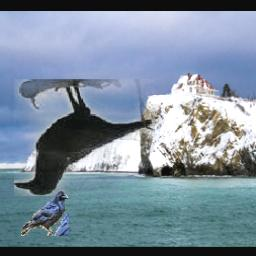Crow: (13, 80, 154, 197), (20, 190, 69, 237)
